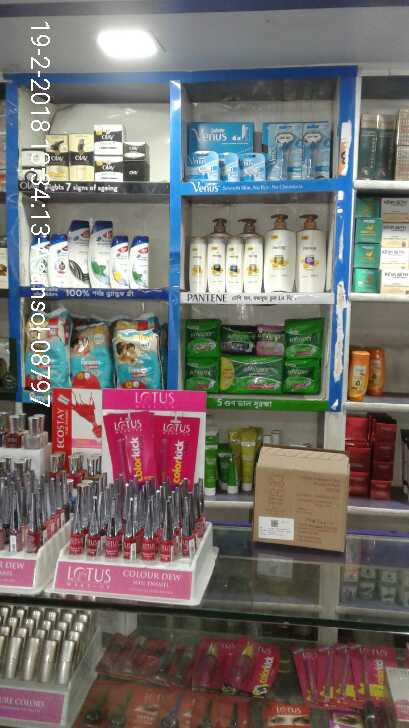venus: (265, 123, 302, 180), (190, 121, 254, 150), (302, 123, 329, 177), (187, 154, 218, 179), (238, 153, 266, 180), (218, 153, 238, 179)
